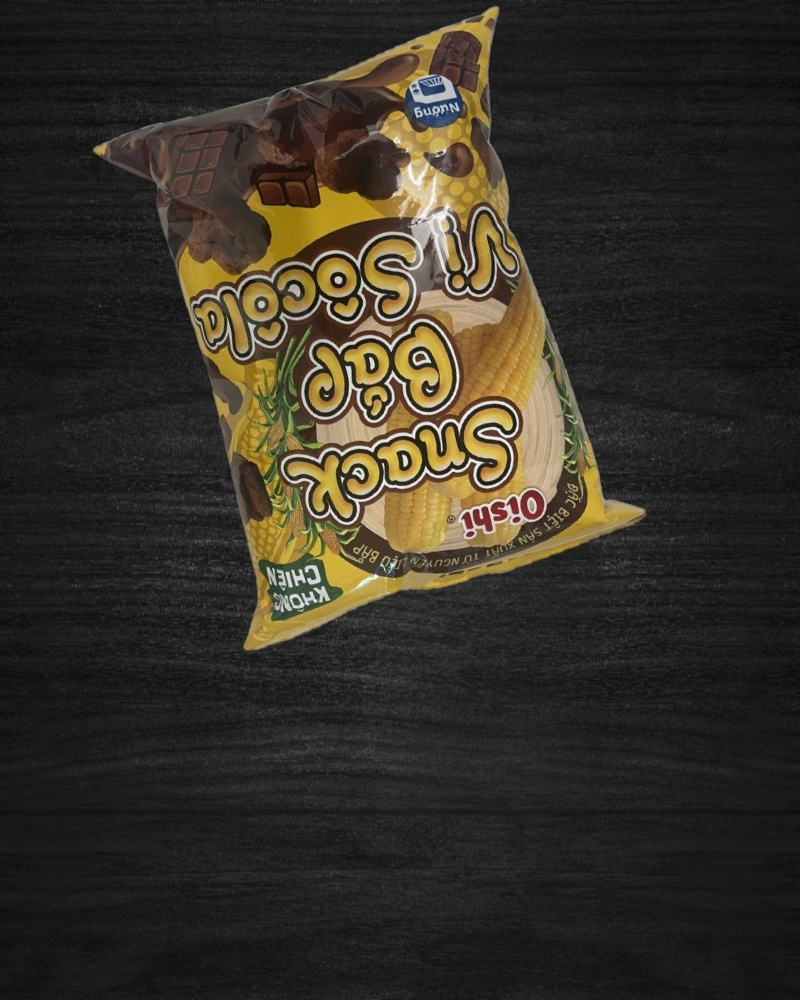Snack socola: (86, 5, 655, 656)
